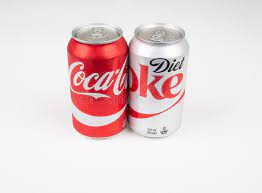can: (125, 20, 194, 142), (62, 19, 127, 139)
